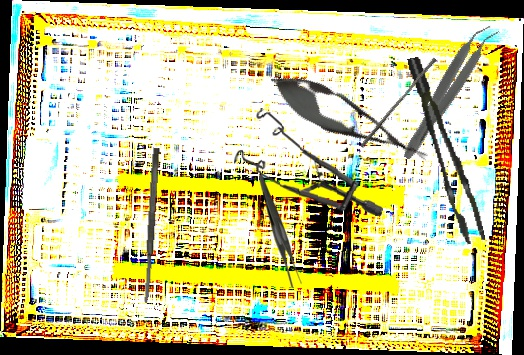Dressing Forceps: (259, 175, 302, 288)
Micro Scissor: (261, 61, 437, 177)
Pusher: (359, 55, 438, 151)
Spatula Surgical: (141, 147, 161, 304)
Speculum: (231, 107, 388, 216)
Tissue Forceps: (407, 51, 486, 249), (397, 18, 501, 167)
